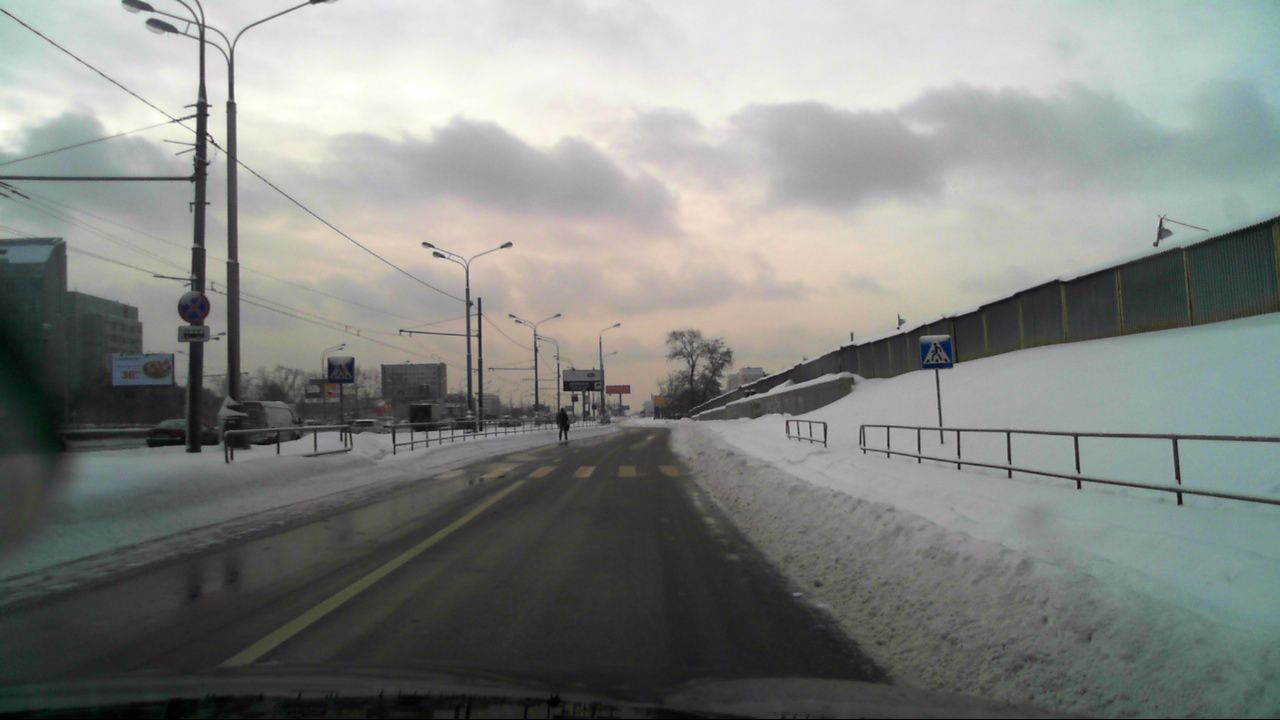No Parking: (176, 291, 209, 323)
